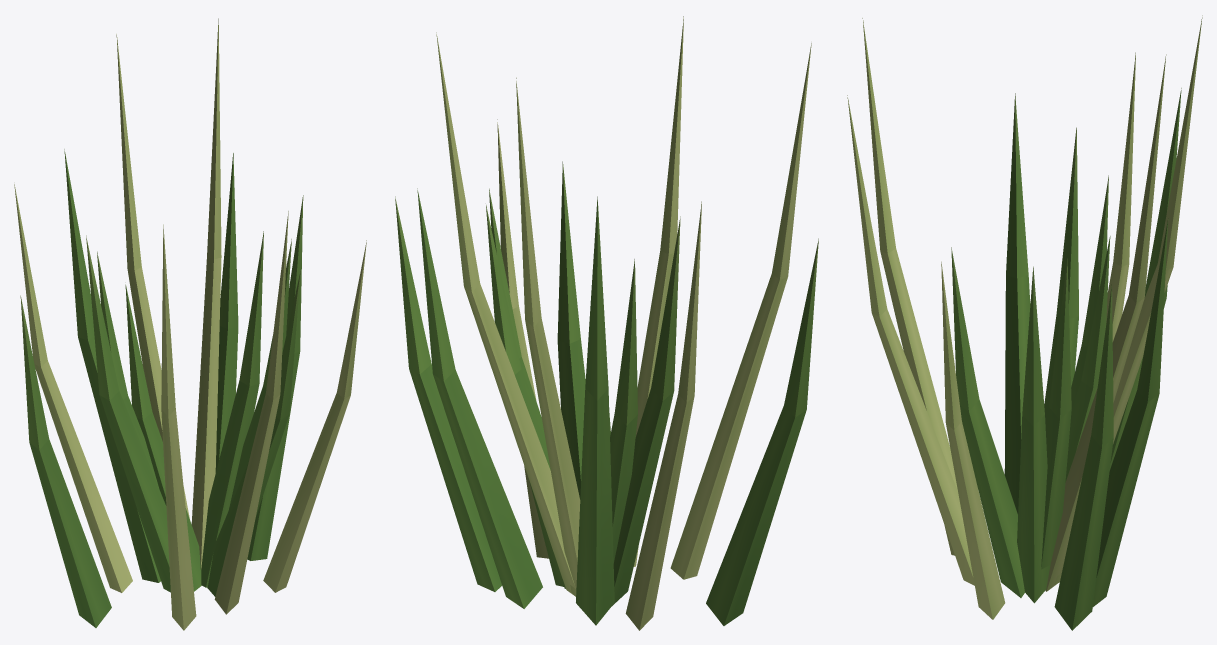
The model's file is SM_Grass_Clump03.fbx.
The picture shows the model from 3 angles, left to right: view 1: azimuth 30°, elevation 25°; view 2: azimuth 150°, elevation 25°; view 3: azimuth 270°, elevation 25°; orthographic projection. The views are drawn at different scales.
Visible parts, largest first — view 1: SM_Grass_Clump03; view 2: SM_Grass_Clump03; view 3: SM_Grass_Clump03.
Part boxes in pixels (x1,y1,x2,y2): SM_Grass_Clump03: (14, 18, 366, 630); SM_Grass_Clump03: (395, 16, 818, 630); SM_Grass_Clump03: (847, 15, 1202, 630).
Size of the model in its own units: 1.34 by 2.03 by 1.14.
1 material, 1 textured.
